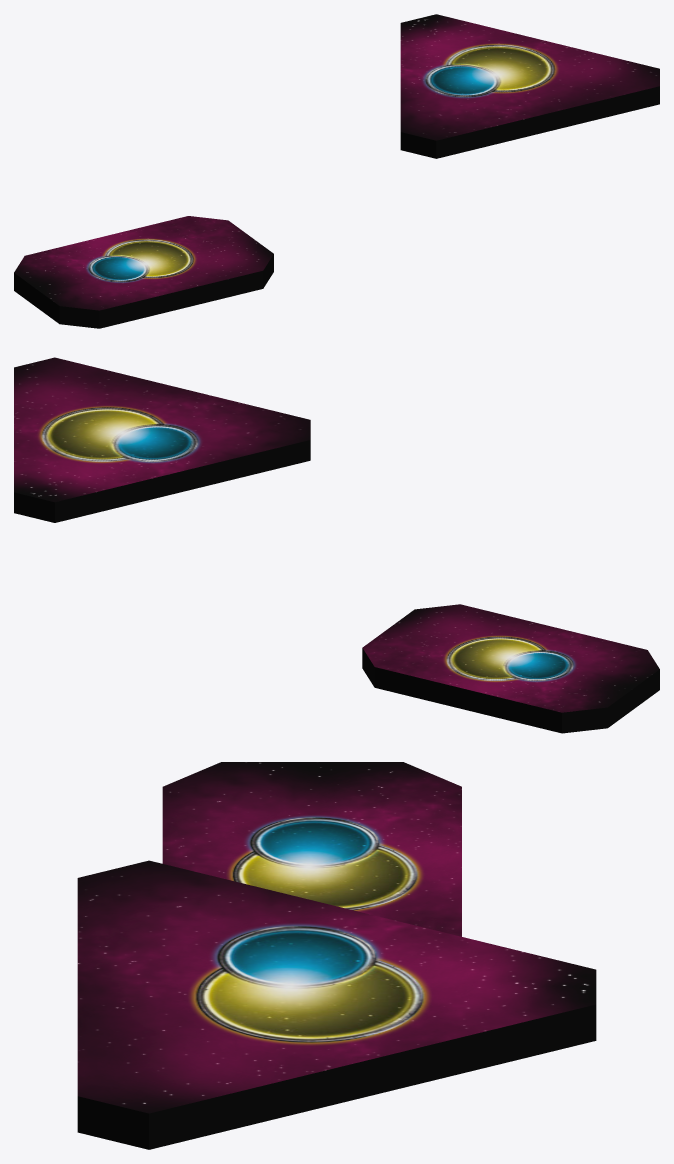
Rendered from tokens_low.glb.
3 renders of one model, top to bottom at view 1: azimuth 30°, elevation 25°; view 2: azimuth 150°, elevation 25°; view 3: azimuth 270°, elevation 25°, orthographic. The views are drawn at different scales.
Parts seen in each view (by area): view 1: command.low, own.low; view 2: command.low, own.low; view 3: command.low, own.low.
Part boxes in pixels (x1,y1,x2,y2): command.low: [400, 14, 659, 158]; own.low: [14, 216, 273, 328]; command.low: [14, 357, 310, 522]; own.low: [362, 604, 659, 733]; command.low: [77, 860, 596, 1149]; own.low: [162, 762, 461, 936].
Size of the model in its own units: 0.057 by 0.0119 by 0.022.
2 materials, 2 textured.
